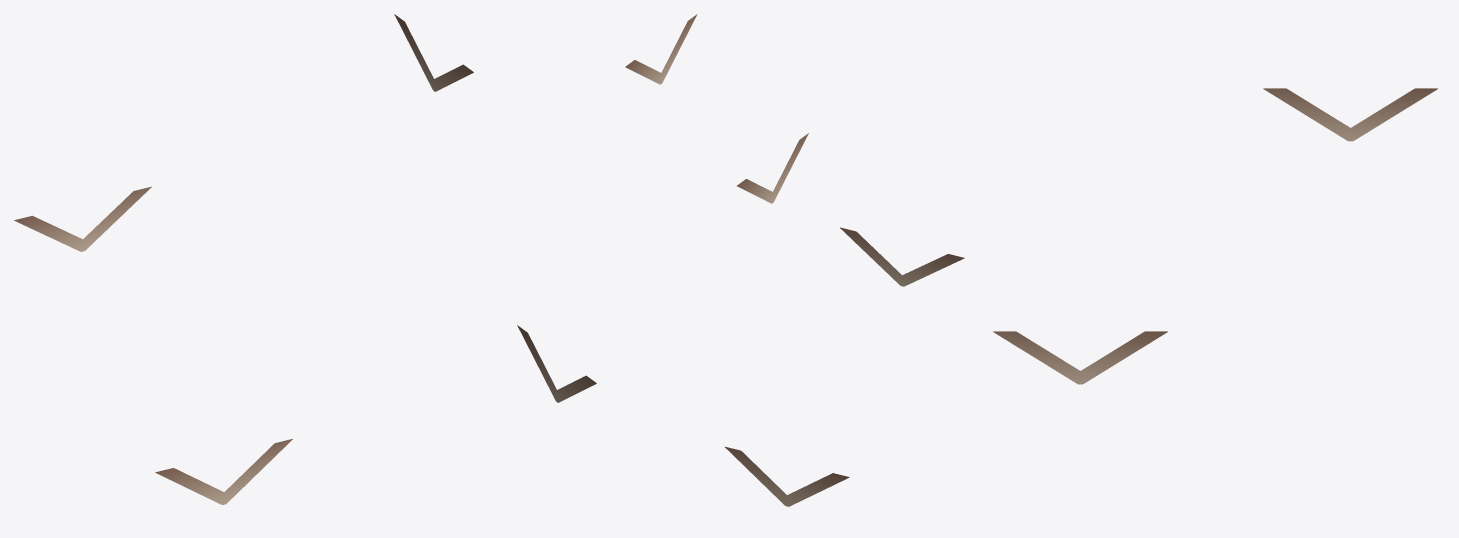
The picture shows the model from 3 angles, left to right: view 1: azimuth 30°, elevation 25°; view 2: azimuth 150°, elevation 25°; view 3: azimuth 270°, elevation 25°; orthographic projection. The views are drawn at different scales.
Visible parts, largest first — view 1: Plane.003, Plane.005, Plane.004, Plane.006; view 2: Plane.003, Plane.005, Plane.006, Plane.004; view 3: Plane.004, Plane.006.
Boxes of the visible parts, box(x1,y1,x2,y2) form: Plane.003: box(155, 439, 292, 504); Plane.005: box(14, 186, 151, 251); Plane.004: box(517, 325, 596, 402); Plane.006: box(394, 14, 473, 91); Plane.003: box(725, 446, 849, 506); Plane.005: box(840, 227, 964, 286); Plane.006: box(625, 14, 697, 84); Plane.004: box(737, 133, 808, 203); Plane.004: box(993, 331, 1167, 384); Plane.006: box(1263, 88, 1437, 141).
Size of the model in its own units: 14.59 by 16.54 by 13.76.
Materials: 1 (1 with a texture image).
